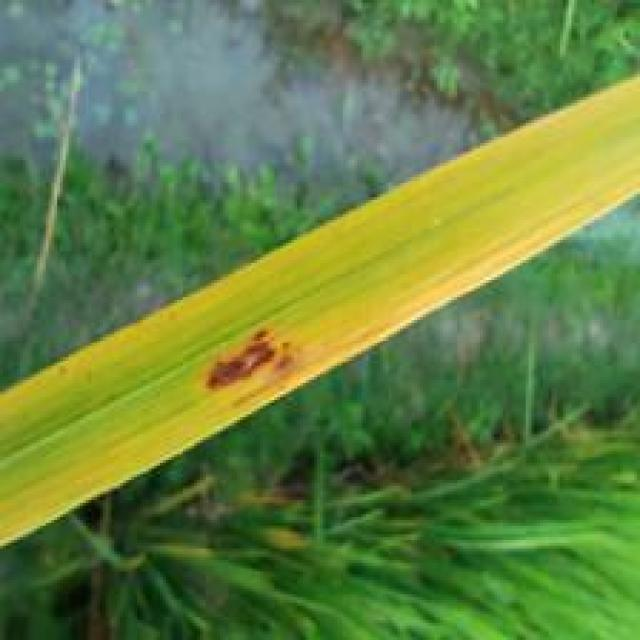Narrow_Brown_Leaf_Spot: (196, 179, 640, 417)
